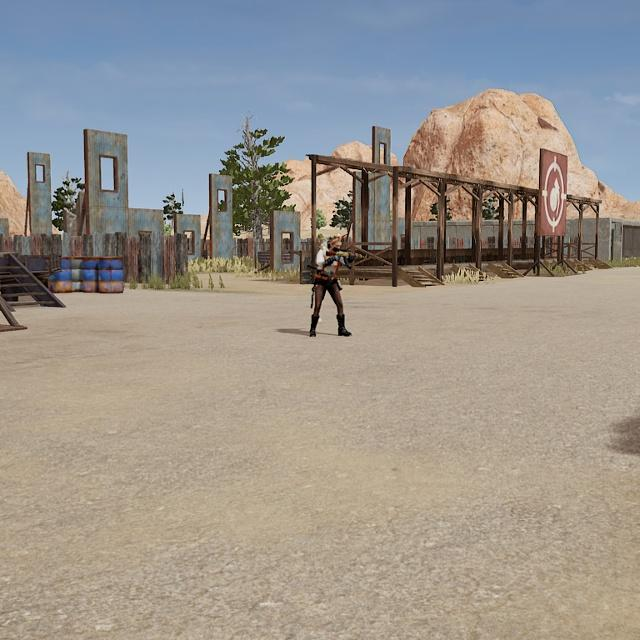head: (327, 235, 344, 255)
people: (308, 234, 353, 338)
